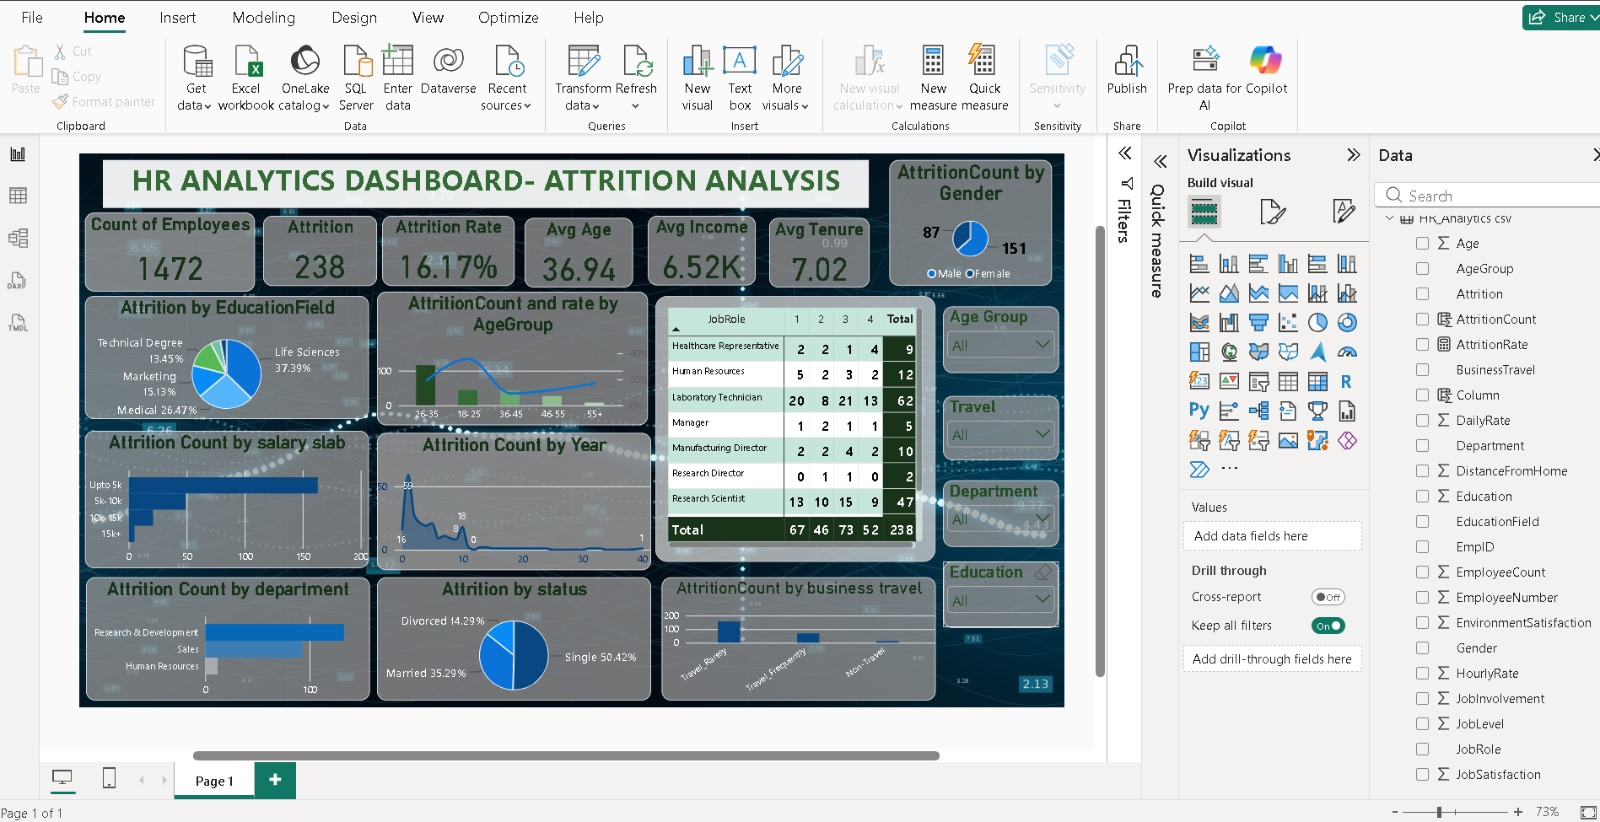

This screenshot's page, from the dashboard's own definition file:
{"tool":"powerbi","page":{"name":"Page 1","canvas":[1920,1080],"ordinal":0},"visuals":[{"type":"textbox","box":[350.7,184.9,995.5,62.7],"z":1},{"type":"cardVisual","title":"Count of Employees","fields":{"Data":["CountNonNull(HR_Analytics csv.EmpID)"]},"box":[327.4,253.4,220.5,102.7],"z":2},{"type":"cardVisual","title":"Attrition","fields":{"Data":["Sum(HR_Analytics csv.AttritionCount)"]},"box":[558.9,257.5,147.8,91],"z":3},{"type":"cardVisual","title":"Attrition Rate","fields":{"Data":["HR_Analytics csv.AttritionRate"]},"box":[713.7,257.5,171.6,91],"z":4},{"type":"cardVisual","title":"Avg Age","fields":{"Data":["Avg(HR_Analytics csv.Age)"]},"box":[898.6,260.3,141.1,90.4],"z":5},{"type":"cardVisual","title":"Avg  Income ","fields":{"Data":["Avg(HR_Analytics csv.MonthlyIncome)"]},"box":[1058.9,257.5,139.7,90.4],"z":6},{"type":"cardVisual","title":"Avg Tenure ","fields":{"Data":["Avg(HR_Analytics csv.YearsAtCompany)"]},"box":[1216.4,260.3,130.1,90.4],"z":7},{"type":"donutChart","title":"AttritionCount by Gender","fields":{"Category":["HR_Analytics csv.Gender"],"Y":["Sum(HR_Analytics csv.AttritionCount)"]},"box":[1372.6,184.9,211,163],"z":8},{"type":"pieChart","title":" Attrition by EducationField","fields":{"Category":["HR_Analytics csv.EducationField","HR_Analytics csv.YearsAtCompany"],"Y":["Sum(HR_Analytics csv.AttritionCount)"]},"box":[327.4,361.6,368.5,160.3],"z":9},{"type":"lineStackedColumnComboChart","title":" AttritionCount and rate  by AgeGroup","fields":{"Category":["HR_Analytics csv.AgeGroup"],"Y":["Sum(HR_Analytics csv.AttritionCount)"],"Y2":["HR_Analytics csv.AttritionRate"]},"box":[706.8,356.2,352.1,174],"z":10},{"type":"pivotTable","fields":{"Columns":["HR_Analytics csv.JobSatisfaction"],"Rows":["HR_Analytics csv.JobRole"],"Values":["Sum(HR_Analytics csv.AttritionCount)"]},"box":[1068.5,361.6,364.4,345.2],"z":11},{"type":"barChart","title":" Attrition Count  by salary slab  ","fields":{"Category":["HR_Analytics csv.SalarySlab"],"Y":["Sum(HR_Analytics csv.AttritionCount)"]},"box":[327.4,537,368.5,178.1],"z":12},{"type":"areaChart","title":"Attrition Count by Year","fields":{"Category":["HR_Analytics csv.YearsAtCompany"],"Y":["Sum(HR_Analytics csv.AttritionCount)"]},"box":[706.8,539.7,356.2,178.1],"z":13},{"type":"barChart","title":" Attrition Count by department ","fields":{"Category":["HR_Analytics csv.Department"],"Y":["Sum(HR_Analytics csv.AttritionCount)"]},"box":[328.8,727.4,368.5,160.3],"z":14},{"type":"pieChart","title":" Attrition by status ","fields":{"Category":["HR_Analytics csv.MaritalStatus"],"Y":["Sum(HR_Analytics csv.AttritionCount)"]},"box":[706.8,727.4,356.2,160.3],"z":15},{"type":"columnChart","title":" AttritionCount by business travel ","fields":{"Category":["HR_Analytics csv.BusinessTravel"],"Y":["Sum(HR_Analytics csv.AttritionCount)"]},"box":[1076.7,727.4,356.2,160.3],"z":16},{"type":"slicer","fields":{"Values":["HR_Analytics csv.AgeGroup"]},"box":[1442.5,375.3,150.7,86.3],"z":17},{"type":"slicer","fields":{"Values":["HR_Analytics csv.BusinessTravel"]},"box":[1442.5,491.8,150.7,83.6],"z":18},{"type":"slicer","fields":{"Values":["HR_Analytics csv.Department"]},"box":[1442.5,601.4,150.7,86.3],"z":19},{"type":"slicer","fields":{"Values":["HR_Analytics csv.EducationField"]},"box":[1442.5,706.8,150.7,86.3],"z":20}]}

Visuals, with their boxes on the page's 1920x1080 design canvas (x1, y1, x2, y2). These are canvas units, not pixel positions in the 1600x822 screenshot, which may show the page scaled, cropped or inside an application window:
textbox: box(351, 185, 1346, 248)
"Count of Employees" cardVisual: box(327, 253, 548, 356)
"Attrition" cardVisual: box(559, 258, 707, 348)
"Attrition Rate" cardVisual: box(714, 258, 885, 348)
"Avg Age" cardVisual: box(899, 260, 1040, 351)
"Avg  Income " cardVisual: box(1059, 258, 1199, 348)
"Avg Tenure " cardVisual: box(1216, 260, 1346, 351)
"AttritionCount by Gender" donutChart: box(1373, 185, 1584, 348)
" Attrition by EducationField" pieChart: box(327, 362, 696, 522)
" AttritionCount and rate  by AgeGroup" lineStackedColumnComboChart: box(707, 356, 1059, 530)
pivotTable - HR_Analytics csv.JobSatisfaction x HR_Analytics csv.JobRole: box(1068, 362, 1433, 707)
" Attrition Count  by salary slab  " barChart: box(327, 537, 696, 715)
"Attrition Count by Year" areaChart: box(707, 540, 1063, 718)
" Attrition Count by department " barChart: box(329, 727, 697, 888)
" Attrition by status " pieChart: box(707, 727, 1063, 888)
" AttritionCount by business travel " columnChart: box(1077, 727, 1433, 888)
slicer - HR_Analytics csv.AgeGroup: box(1442, 375, 1593, 462)
slicer - HR_Analytics csv.BusinessTravel: box(1442, 492, 1593, 575)
slicer - HR_Analytics csv.Department: box(1442, 601, 1593, 688)
slicer - HR_Analytics csv.EducationField: box(1442, 707, 1593, 793)
